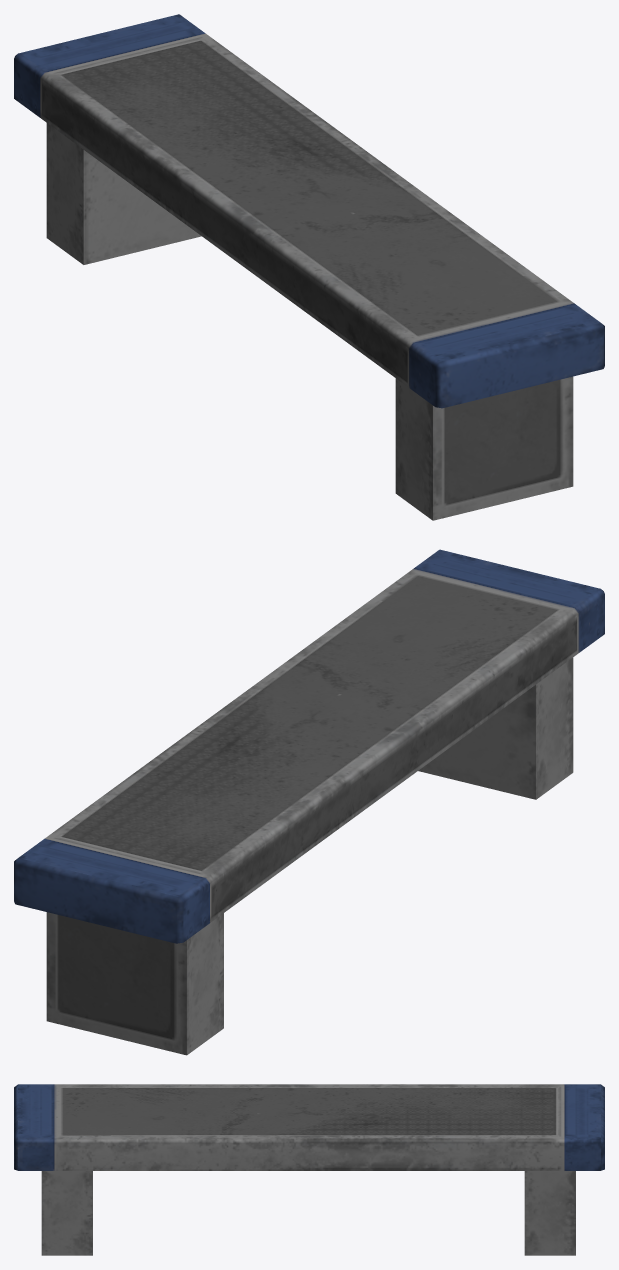
File: CP_Bench_Metal.fbx
The picture shows the model from 3 angles, top to bottom: view 1: azimuth 30°, elevation 25°; view 2: azimuth 150°, elevation 25°; view 3: azimuth 270°, elevation 25°; orthographic projection. The views are drawn at different scales.
Visible parts, largest first — view 1: CP_Bench_Metal; view 2: CP_Bench_Metal; view 3: CP_Bench_Metal.
Part boxes in pixels (x1=…): CP_Bench_Metal: x1=14, y1=14, x2=604, y2=520; CP_Bench_Metal: x1=14, y1=549, x2=604, y2=1055; CP_Bench_Metal: x1=14, y1=1084, x2=604, y2=1255.
Size of the model in its own units: 44.79 by 43.9 by 196.
